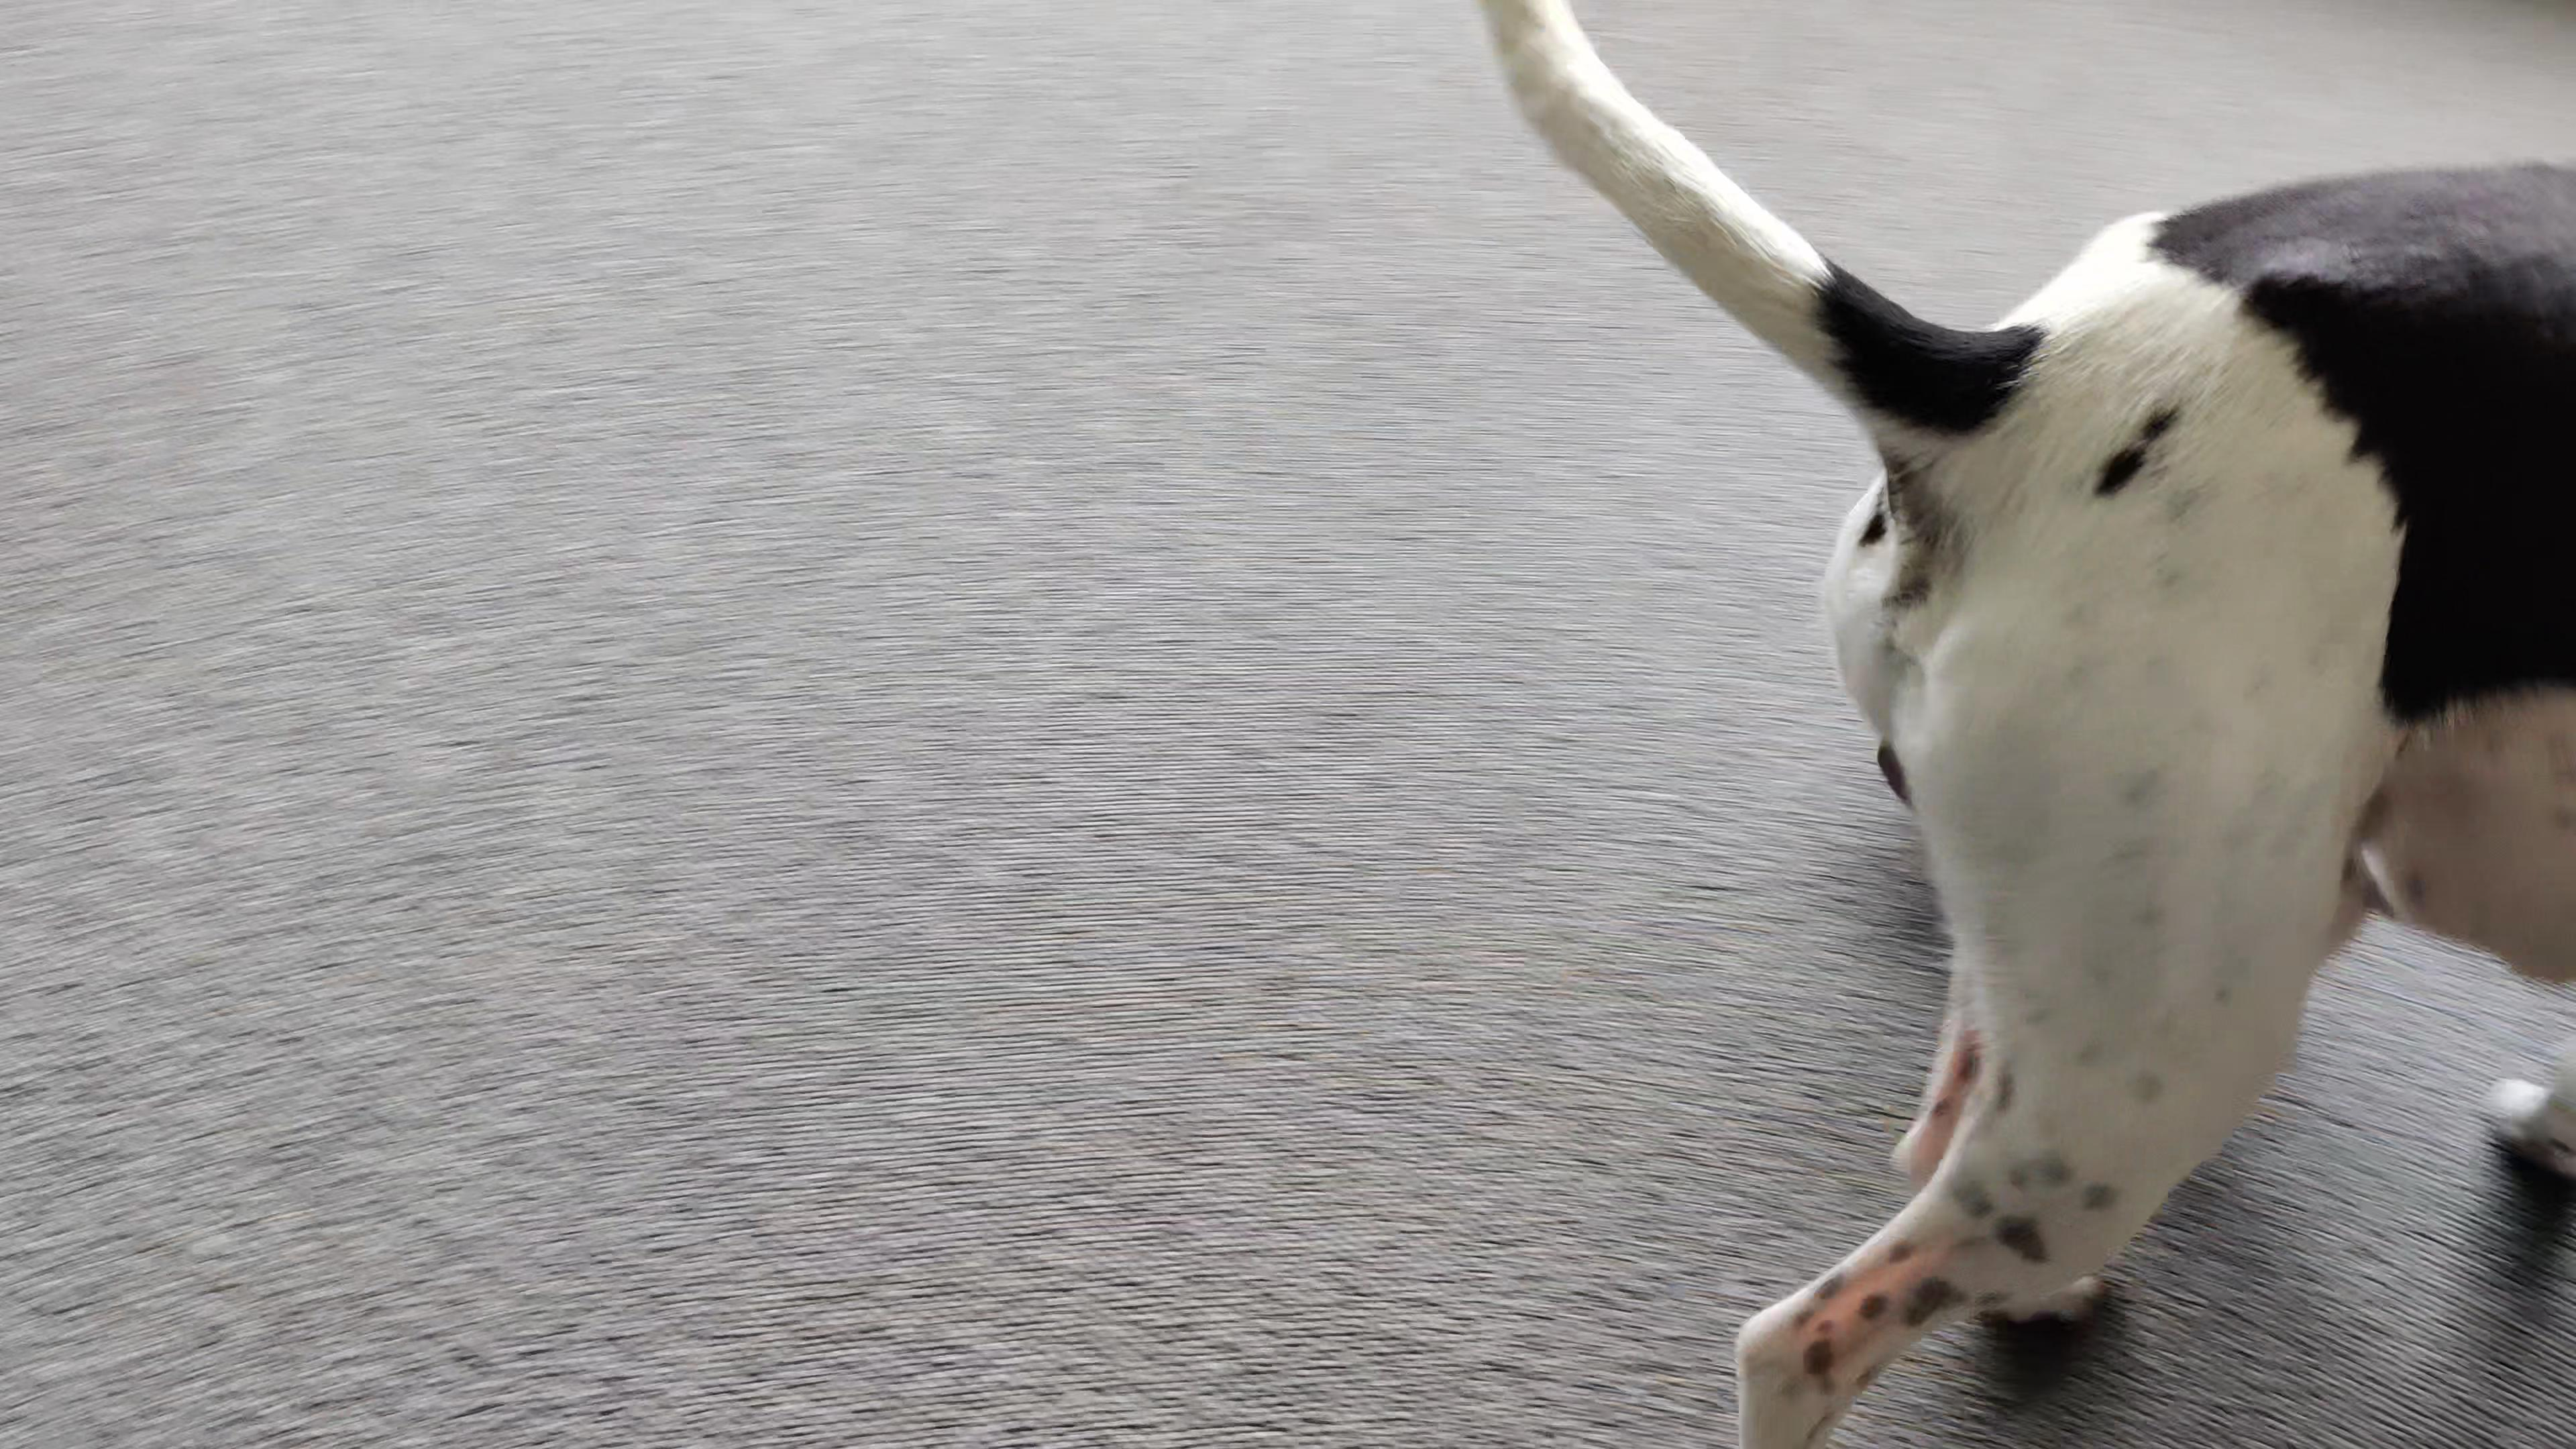Dog: (1468, 0, 2576, 1449)
